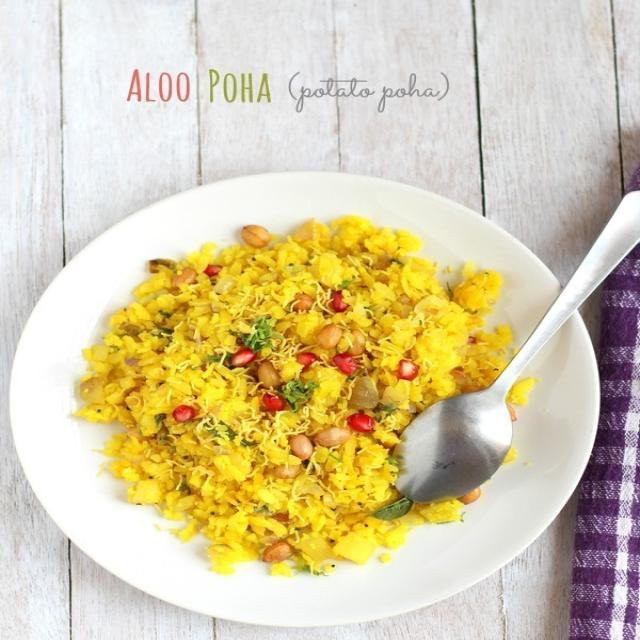POHA: (75, 217, 510, 568)
